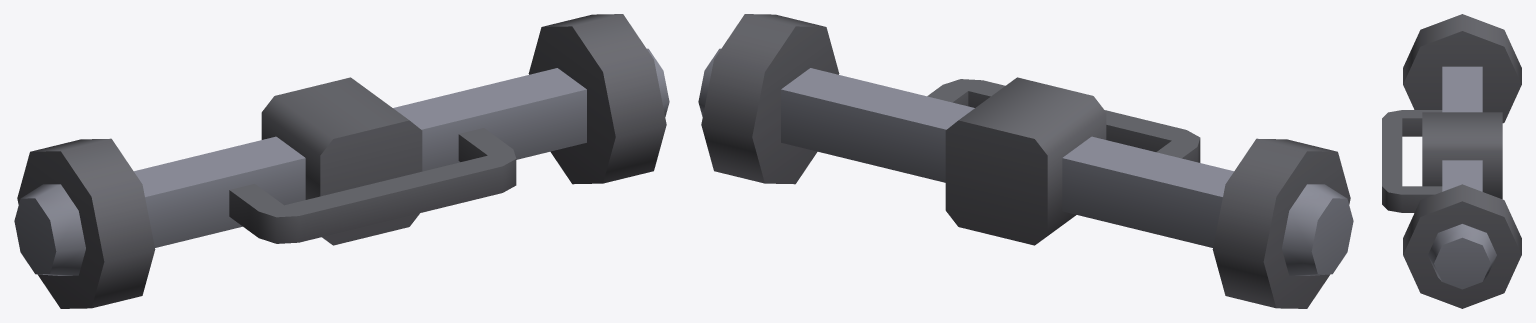
Rendered from debris_axle.glb.
The picture shows the model from 3 angles, left to right: view 1: azimuth 30°, elevation 25°; view 2: azimuth 150°, elevation 25°; view 3: azimuth 270°, elevation 25°; orthographic projection. The views are drawn at different scales.
Visible parts, largest first — view 1: debris-drivetrain-axle; view 2: debris-drivetrain-axle; view 3: debris-drivetrain-axle.
Part boxes in pixels (left/top/right/bottom): debris-drivetrain-axle: left=14, top=14, right=669, bottom=308; debris-drivetrain-axle: left=698, top=14, right=1353, bottom=308; debris-drivetrain-axle: left=1382, top=14, right=1521, bottom=308.
Size of the model in its own units: 1.44 by 0.3543 by 0.4165.
Materials: 1 (1 with a texture image).
